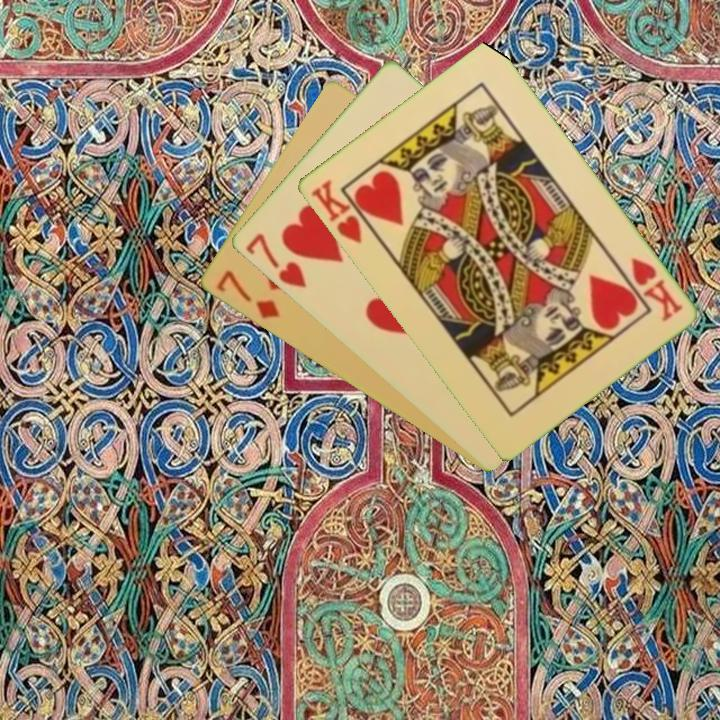7d: (212, 266, 283, 322)
7h: (241, 229, 309, 291)
Kh: (306, 175, 379, 246), (626, 253, 686, 325)
